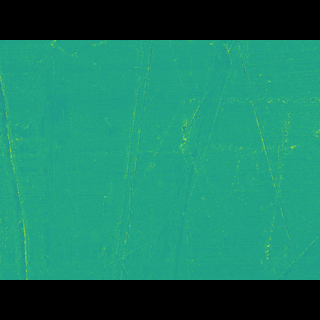Loch: (142, 69, 251, 249), (0, 97, 80, 251), (104, 69, 161, 250)
